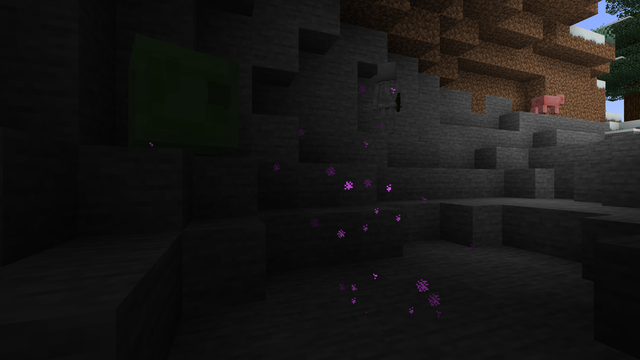cochons: (530, 93, 561, 114)
slimes: (112, 31, 227, 154)
squelettes: (373, 60, 402, 135)
